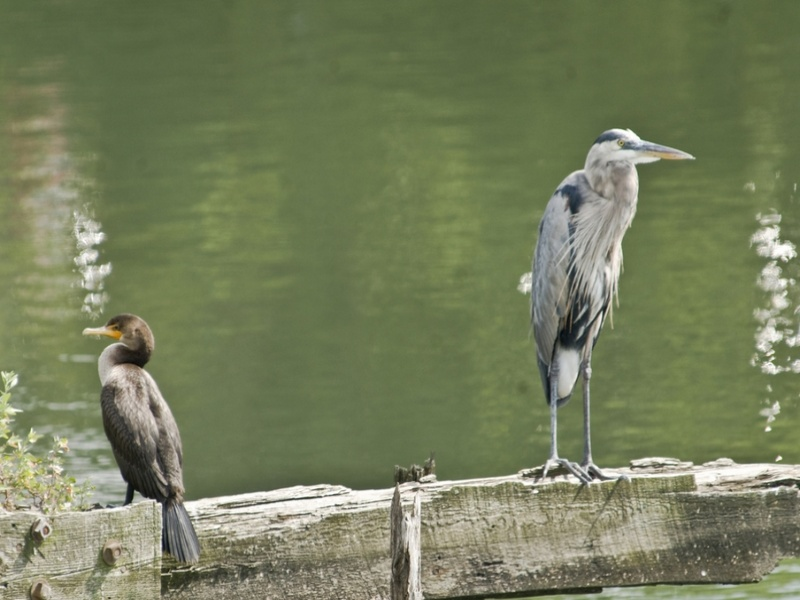heron: (520, 121, 697, 492)
